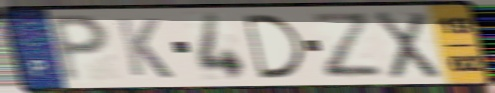4: (196, 11, 249, 83)
D: (239, 12, 309, 81)
K: (113, 16, 176, 81)
P: (45, 13, 113, 86)
X: (372, 9, 443, 81)
Z: (305, 11, 388, 81)
